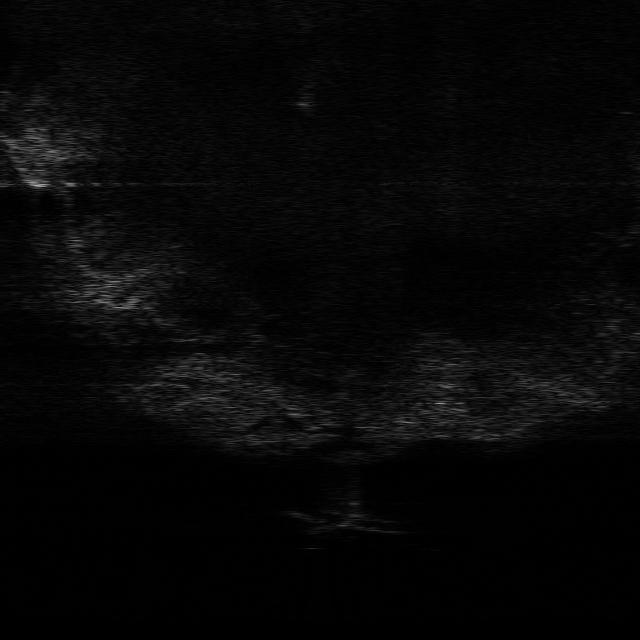plane: (280, 502, 402, 536)
